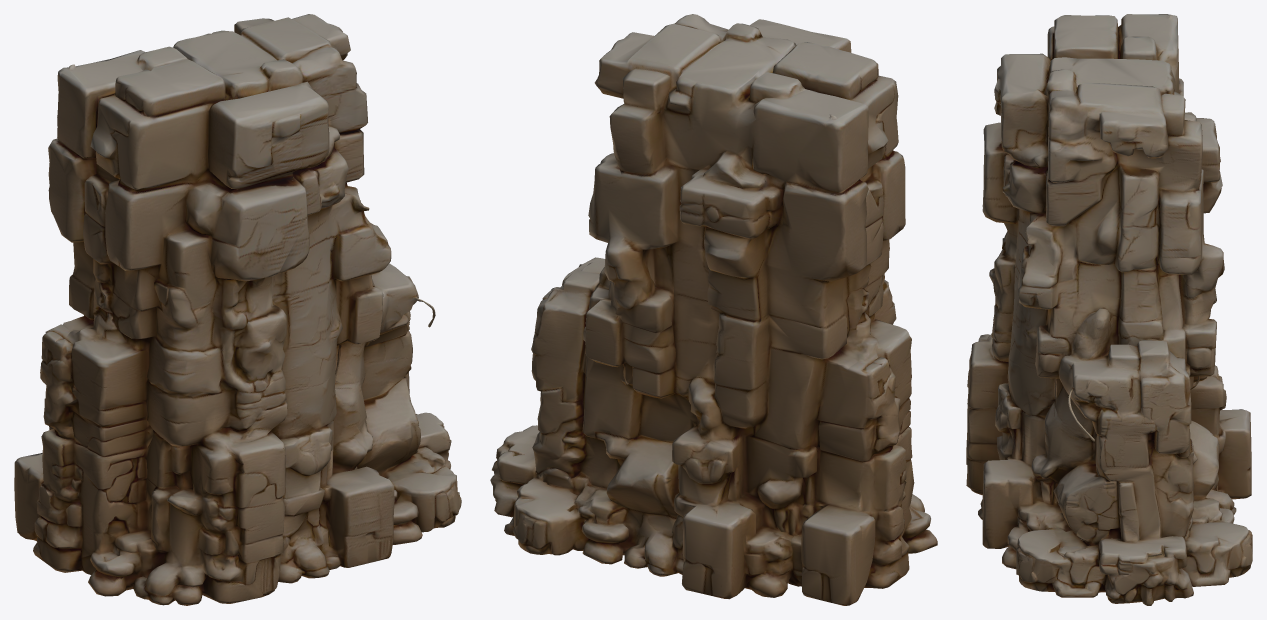
The model's file is cav_limestone_cliff_a.glb.
3 views of the same model, side by side, from view 1: azimuth 30°, elevation 25°; view 2: azimuth 150°, elevation 25°; view 3: azimuth 270°, elevation 25° (orthographic). The views are drawn at different scales.
Parts seen in each view (by area): view 1: tripo_node_3ef656aa-2fe7-4dd1-87fa-00c7bbc1e1c7; view 2: tripo_node_3ef656aa-2fe7-4dd1-87fa-00c7bbc1e1c7; view 3: tripo_node_3ef656aa-2fe7-4dd1-87fa-00c7bbc1e1c7.
Part boxes in pixels (bbox=[...]): tripo_node_3ef656aa-2fe7-4dd1-87fa-00c7bbc1e1c7: bbox=[14, 14, 461, 605]; tripo_node_3ef656aa-2fe7-4dd1-87fa-00c7bbc1e1c7: bbox=[490, 14, 937, 605]; tripo_node_3ef656aa-2fe7-4dd1-87fa-00c7bbc1e1c7: bbox=[966, 14, 1252, 605].
Bounding box in the file's own units: 0.8652 × 0.998 × 0.584.
Materials: 1 (1 with a texture image).
